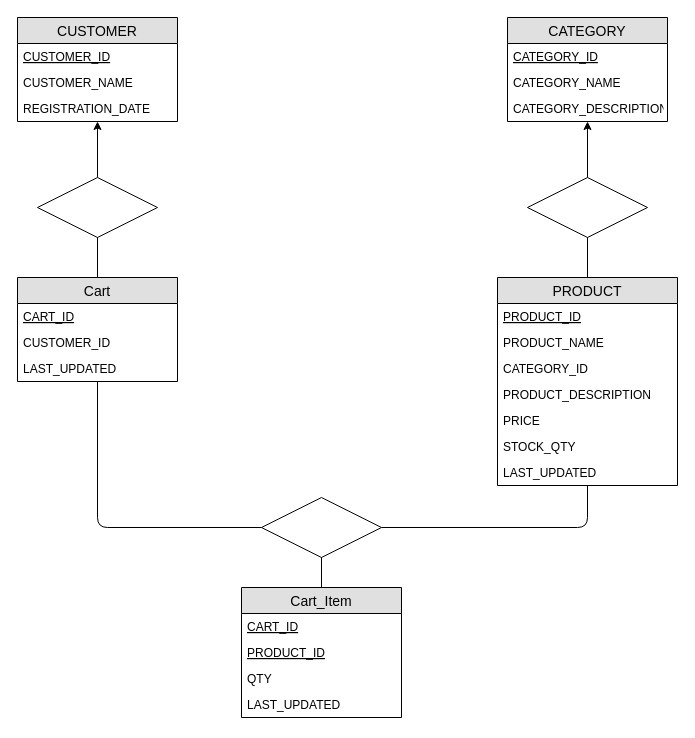
The diagram is 695 pixels wide and 738 high, and some of its shapes have lost their labels. The shapes that lost their labels are listed below. From the top down, each one's centre as x and y in pixels, then its label:
point (97, 207): HAVE
point (587, 207): BELONG
point (321, 527): MAKE_UP
